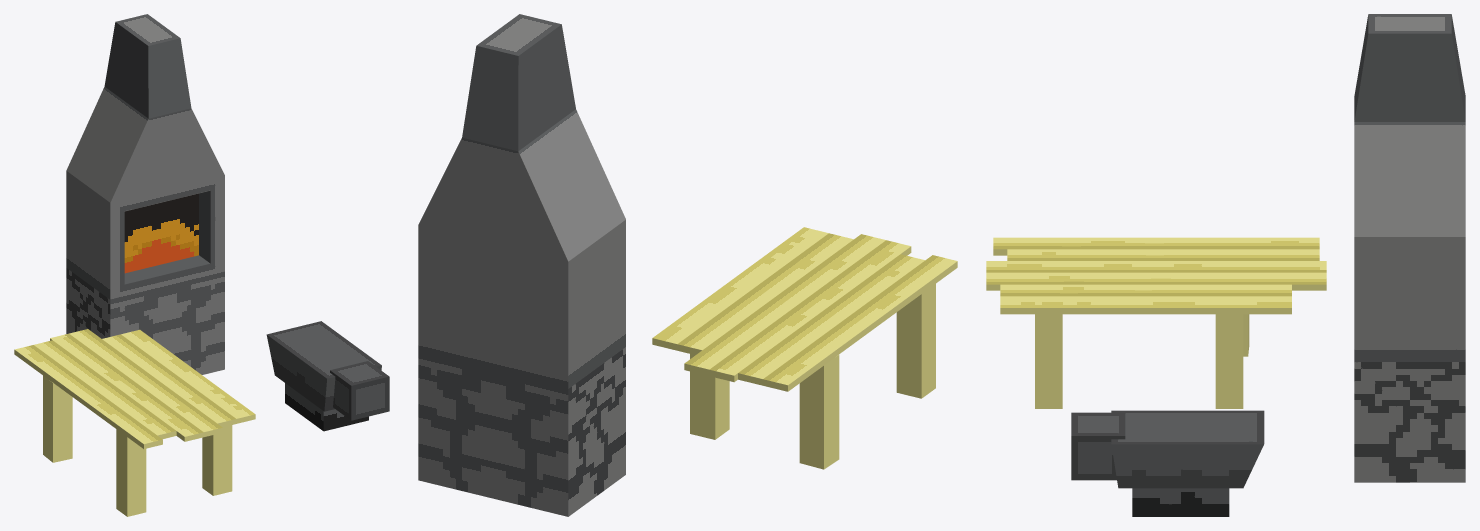
The model's file is ModelForge.gltf.
3 renders of one model, left to right at view 1: azimuth 30°, elevation 25°; view 2: azimuth 150°, elevation 25°; view 3: azimuth 270°, elevation 25°, orthographic. The views are drawn at different scales.
Parts seen in each view (by area): view 1: mesh (×3); view 2: mesh (×2); view 3: mesh (×3).
Part boxes in pixels (x1=…): mesh (×3): x1=14, y1=14, x2=389, y2=516; mesh (×2): x1=418, y1=14, x2=957, y2=516; mesh (×3): x1=986, y1=14, x2=1465, y2=516.
Size of the model in its own units: 3.74 by 4.22 by 4.31.
3 materials, 3 textured.
